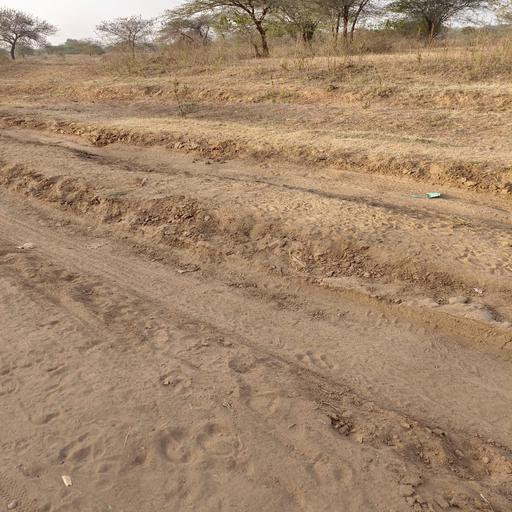vehicle_track: (0, 190, 512, 456), (0, 124, 512, 231)
